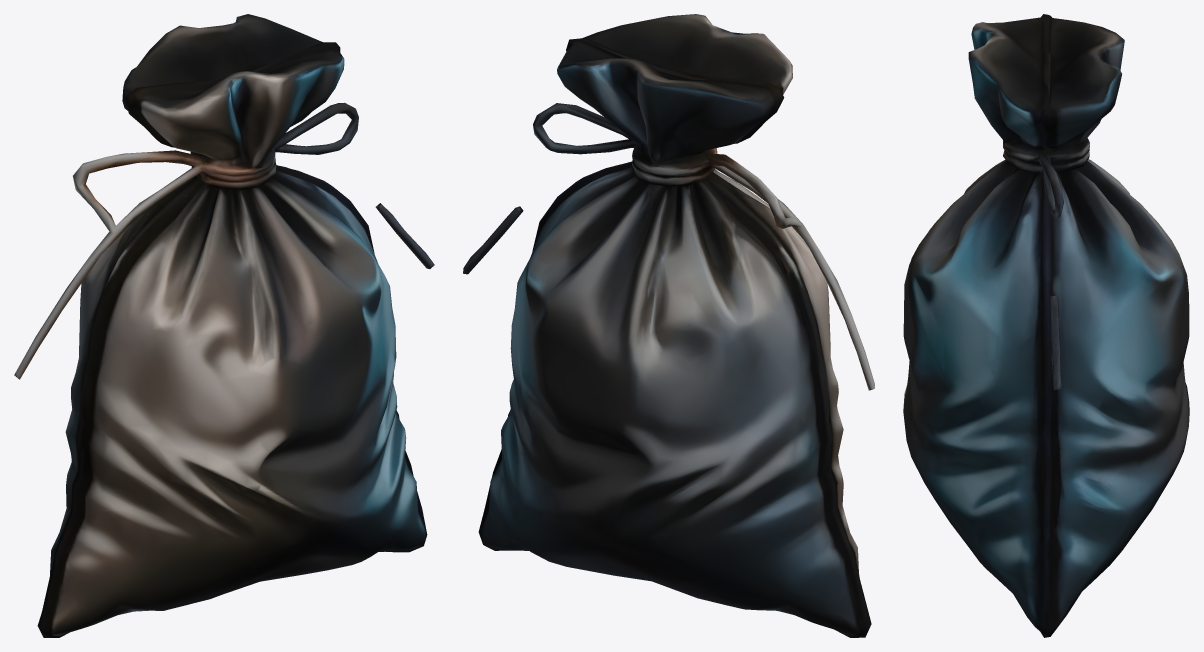
File: prop_trash_bag_tripo_20261113.glb
3 views of the same model, side by side, from view 1: azimuth 30°, elevation 25°; view 2: azimuth 150°, elevation 25°; view 3: azimuth 270°, elevation 25° (orthographic). The views are drawn at different scales.
Visible parts, largest first — view 1: tripo_node_801a5b93-f042-40f0-b3c9-1d39b69411b5; view 2: tripo_node_801a5b93-f042-40f0-b3c9-1d39b69411b5; view 3: tripo_node_801a5b93-f042-40f0-b3c9-1d39b69411b5.
Part boxes in pixels (<box>): tripo_node_801a5b93-f042-40f0-b3c9-1d39b69411b5: <box>14,14,434,637</box>; tripo_node_801a5b93-f042-40f0-b3c9-1d39b69411b5: <box>463,14,874,637</box>; tripo_node_801a5b93-f042-40f0-b3c9-1d39b69411b5: <box>903,14,1189,637</box>.
Bounding box in the file's own units: 0.7943 × 1 × 0.5076.
1 material, 1 textured.
